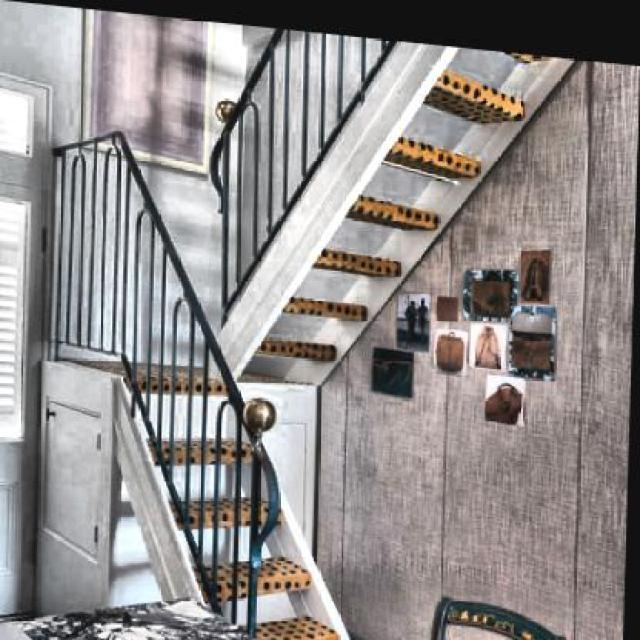stair: (102, 326, 358, 639)
